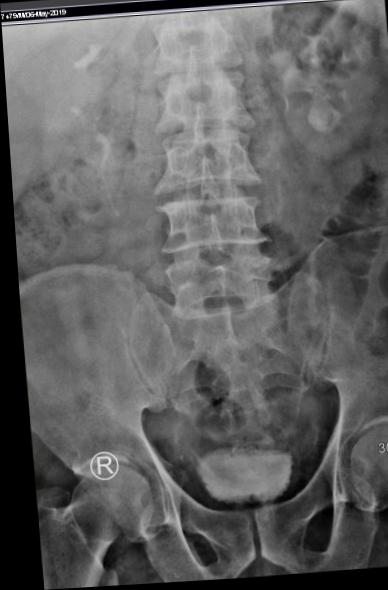bladder: (190, 444, 291, 513)
